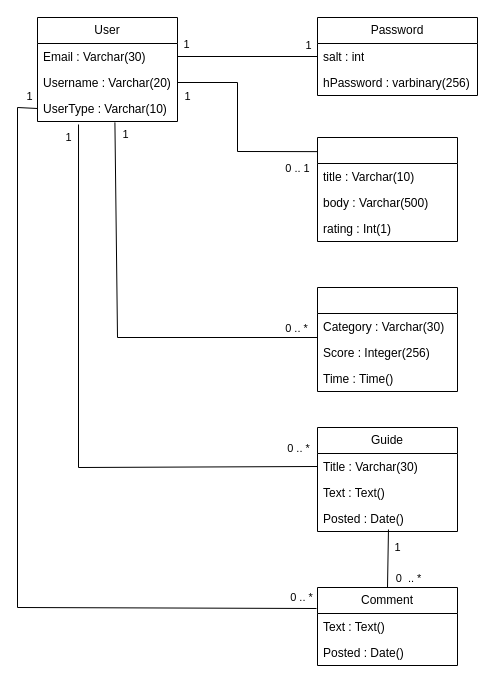
Some shapes in this 495 by 686 pixel diagram are drawn without their labels. The box of each missing label's shape, as (x1, y1, x2, y2) in pixels:
Leaderboard: (316, 286, 458, 392)
Review: (316, 136, 458, 242)
